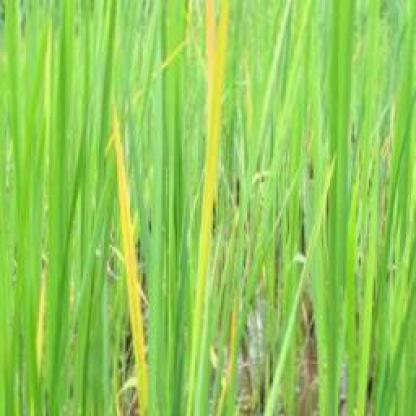Tungro: (189, 7, 229, 413), (111, 114, 152, 415)
